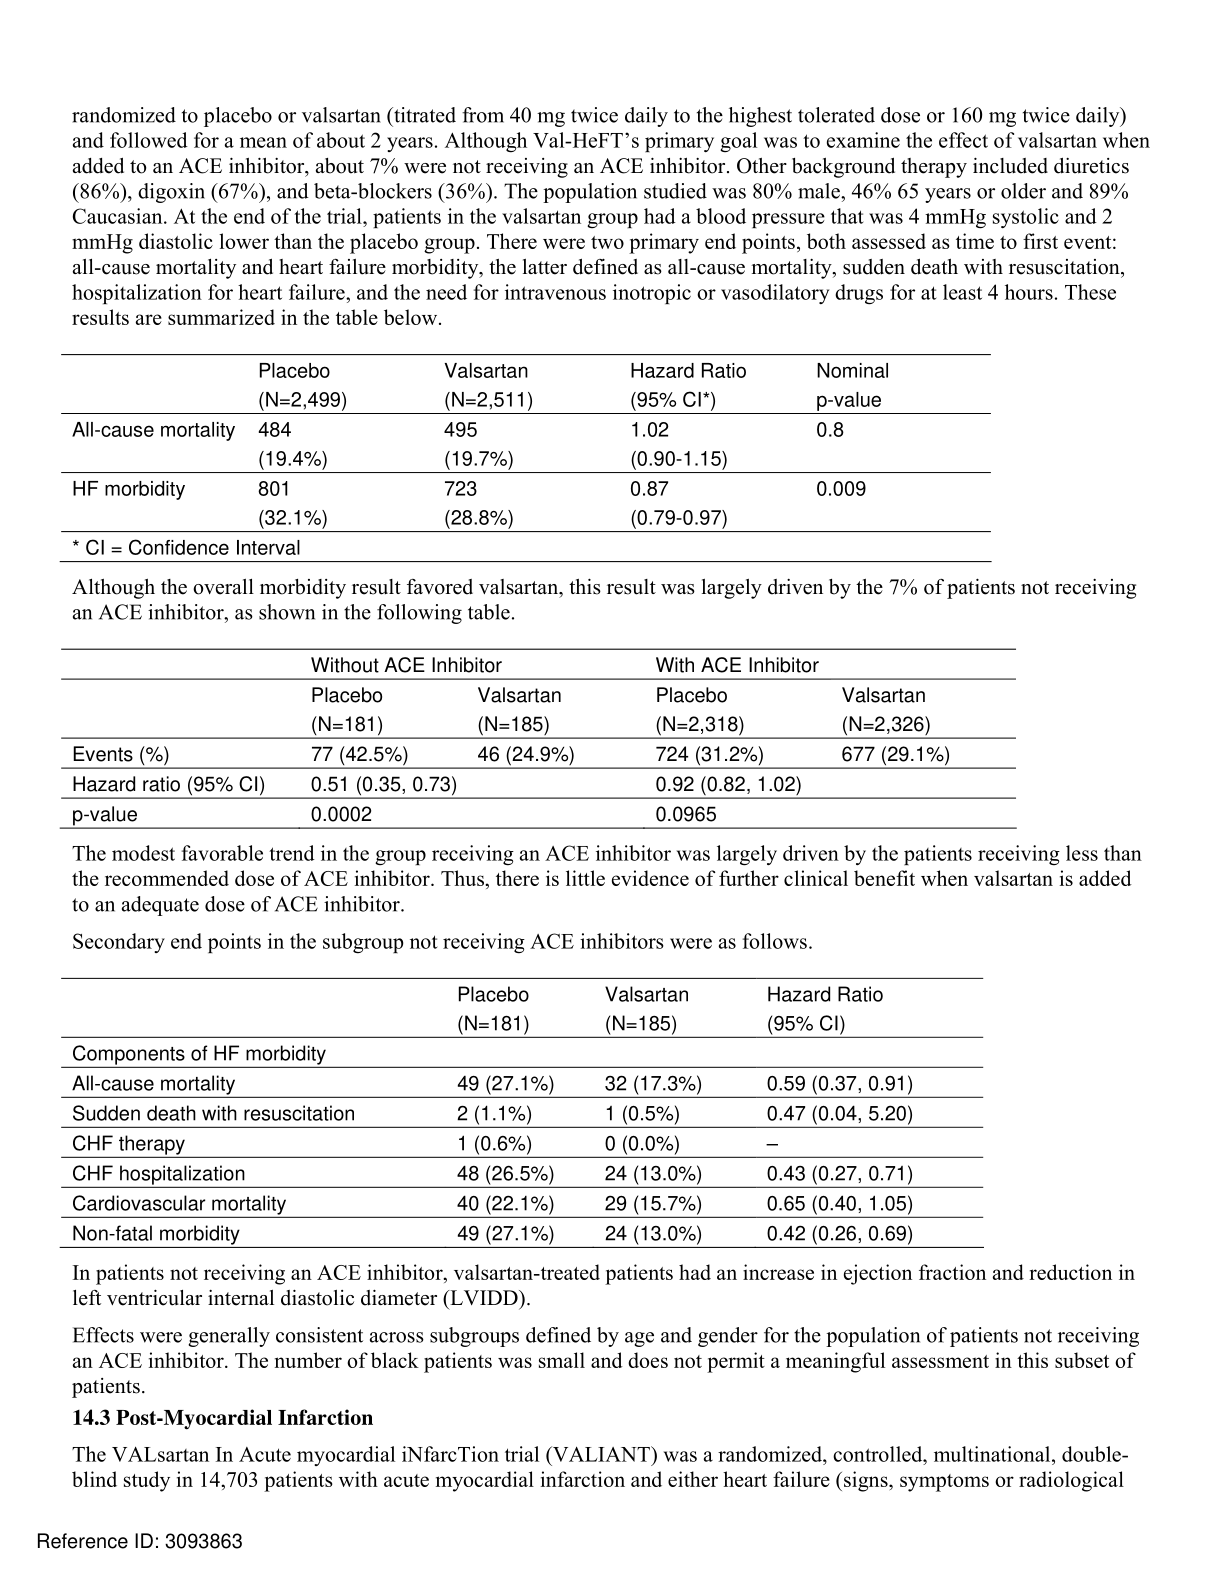partial_lined: (57, 976, 984, 1248), (60, 352, 993, 534)
partial_lined_merged_cells: (58, 647, 1017, 831)
